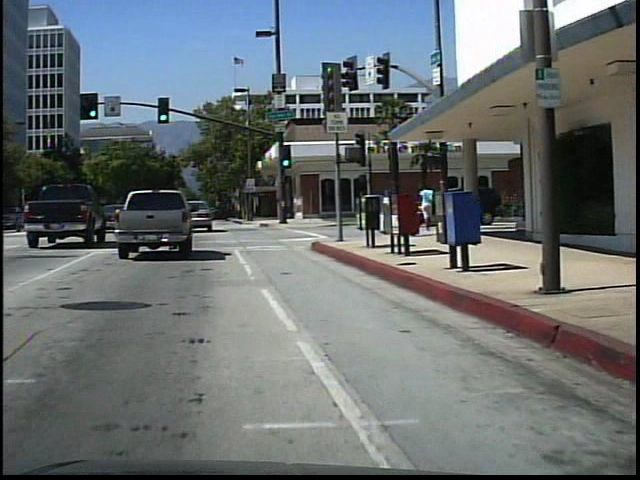person: (417, 181, 438, 236)
